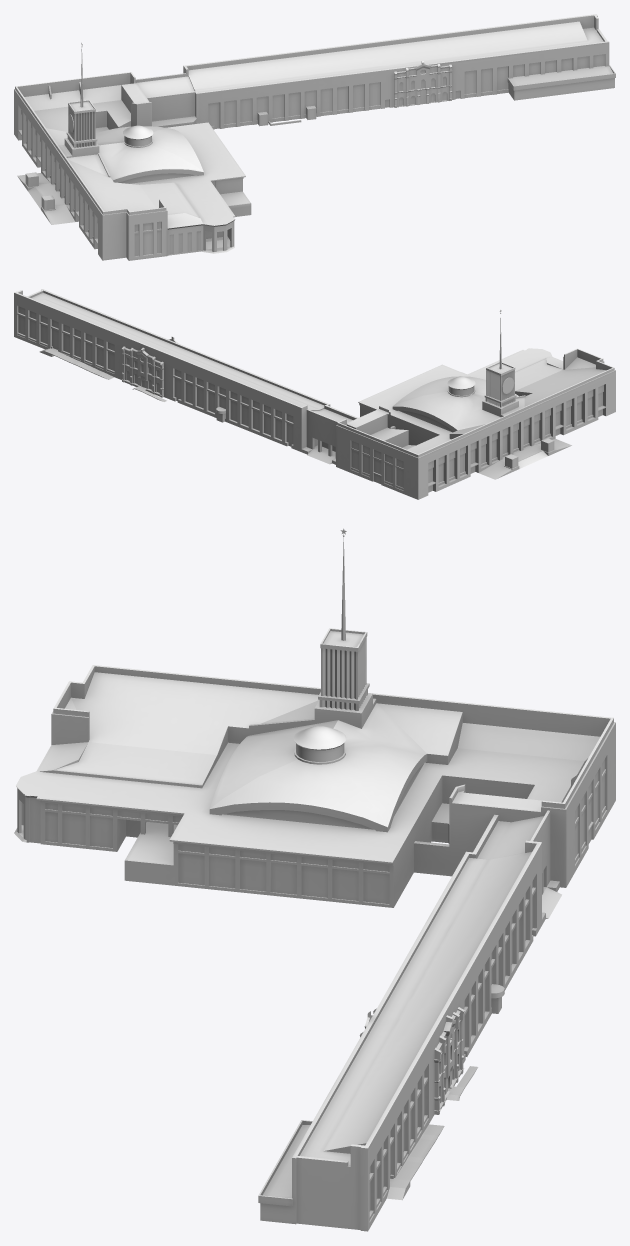
File: finlyandsky_better_occluder.glb
The picture shows the model from 3 angles, top to bottom: view 1: azimuth 30°, elevation 25°; view 2: azimuth 150°, elevation 25°; view 3: azimuth 270°, elevation 25°; orthographic projection. The views are drawn at different scales.
Parts seen in each view (by area): view 1: finlandstation; view 2: finlandstation; view 3: finlandstation.
Part boxes in pixels (box(x1,y1,x2,y2)): finlandstation: box(14, 14, 615, 260); finlandstation: box(14, 289, 615, 499); finlandstation: box(14, 528, 615, 1231).
Size of the model in its own units: 213 by 53.77 by 112.
1 material, 1 textured.
